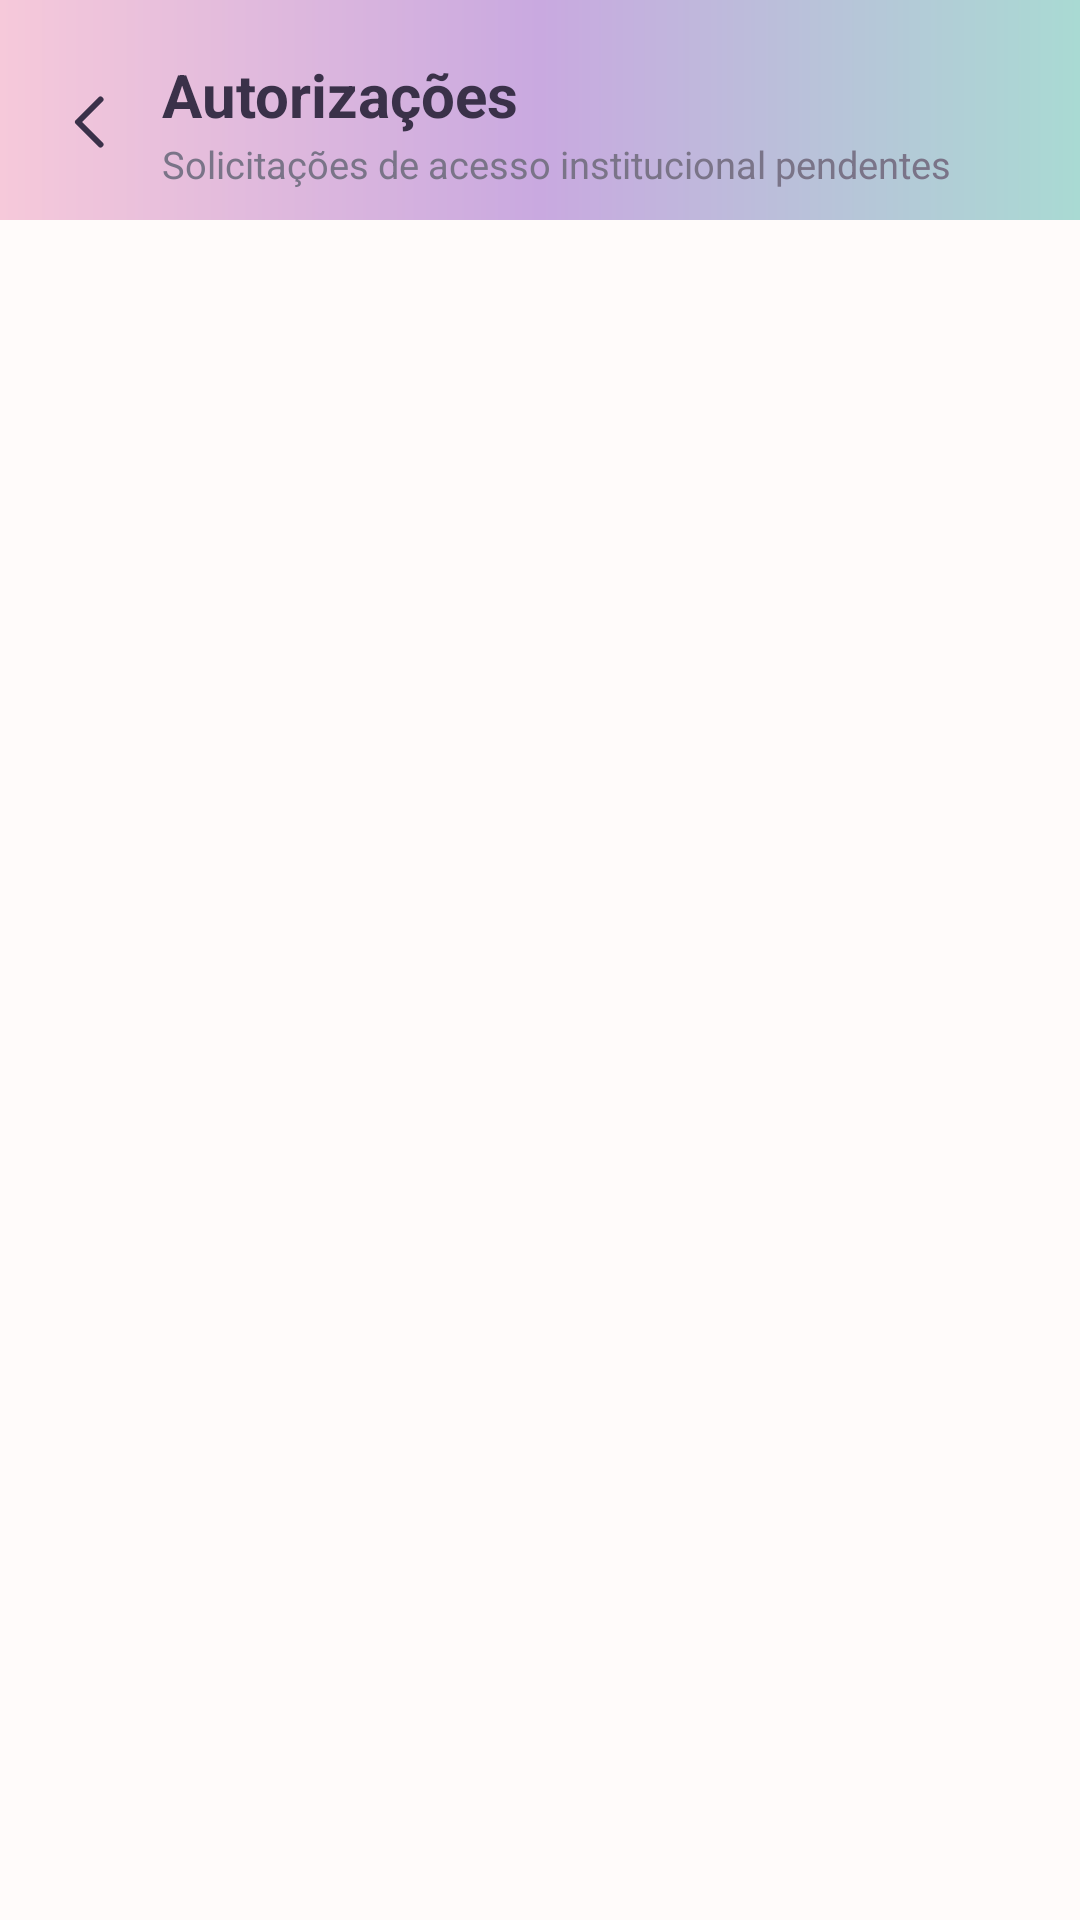

Screen size 1080px x 1920px. Icon name, then its center in pixels as [x,y]:
back: [89,122]
